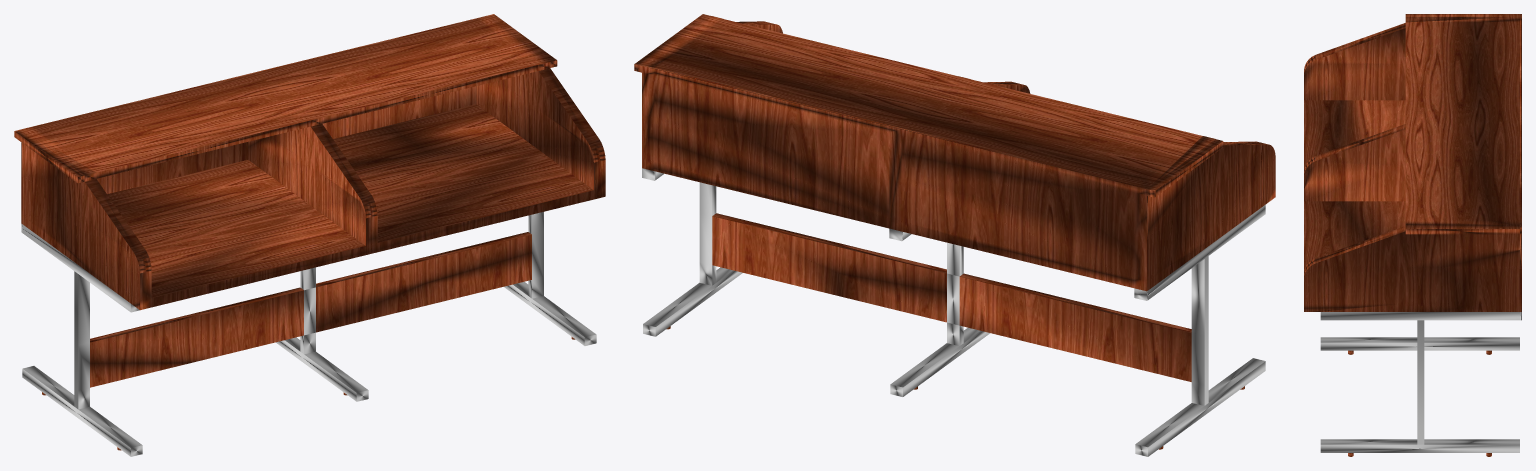
Rendered from MesaProIntento.fbx.
3 renders of one model, left to right at view 1: azimuth 30°, elevation 25°; view 2: azimuth 150°, elevation 25°; view 3: azimuth 270°, elevation 25°, orthographic. The views are drawn at different scales.
Visible parts, largest first — view 1: Cube.002; view 2: Cube.002; view 3: Cube.002.
Boxes of the visible parts, x1=… form: Cube.002: x1=14, y1=14, x2=605, y2=456; Cube.002: x1=634, y1=14, x2=1275, y2=456; Cube.002: x1=1304, y1=14, x2=1521, y2=456.
Size of the model in its own units: 282 by 142 by 121.
2 materials, 1 textured.
